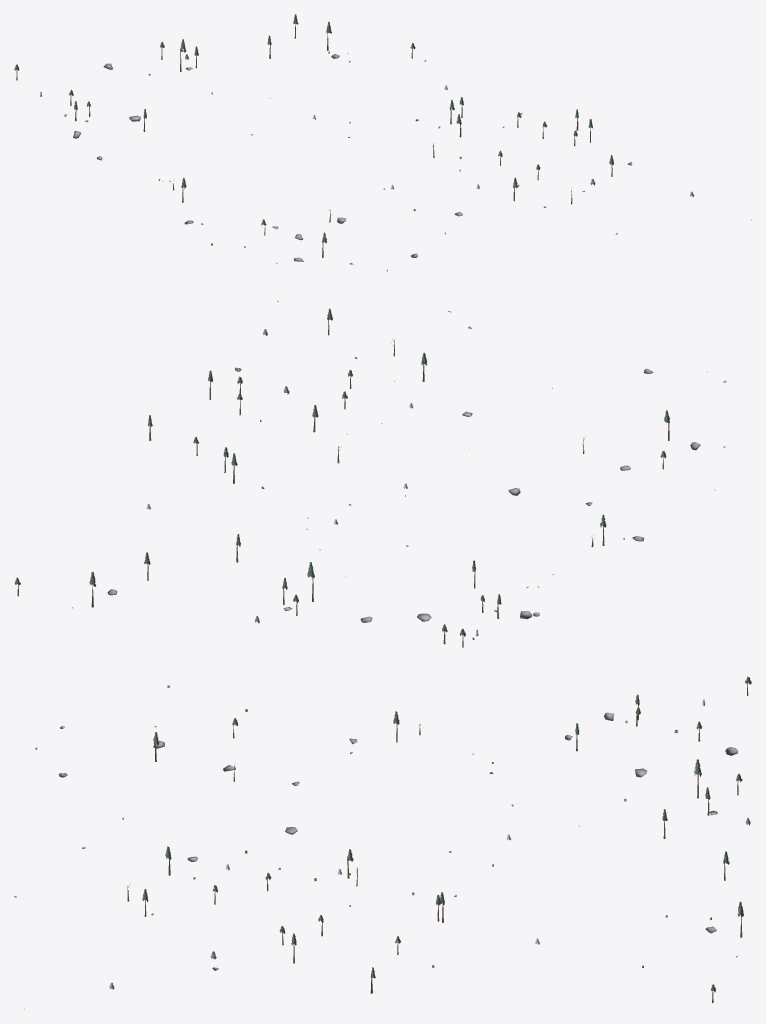
Rendered from frost_land_scatter_c20_12_lod1.glb.
3 views of the same model, one above another, from view 1: azimuth 30°, elevation 25°; view 2: azimuth 150°, elevation 25°; view 3: azimuth 270°, elevation 25° (orthographic). The views are drawn at different scales.
Visible parts, largest first — view 1: frost_land_scatter_c20_12_lod1; view 2: frost_land_scatter_c20_12_lod1; view 3: frost_land_scatter_c20_12_lod1.
Boxes of the visible parts, x1,y1,x2,y2 form: frost_land_scatter_c20_12_lod1: (14, 14, 751, 271); frost_land_scatter_c20_12_lod1: (14, 300, 726, 647); frost_land_scatter_c20_12_lod1: (14, 676, 751, 1009).
Bounding box in the file's own units: 222 × 38.07 × 253.
